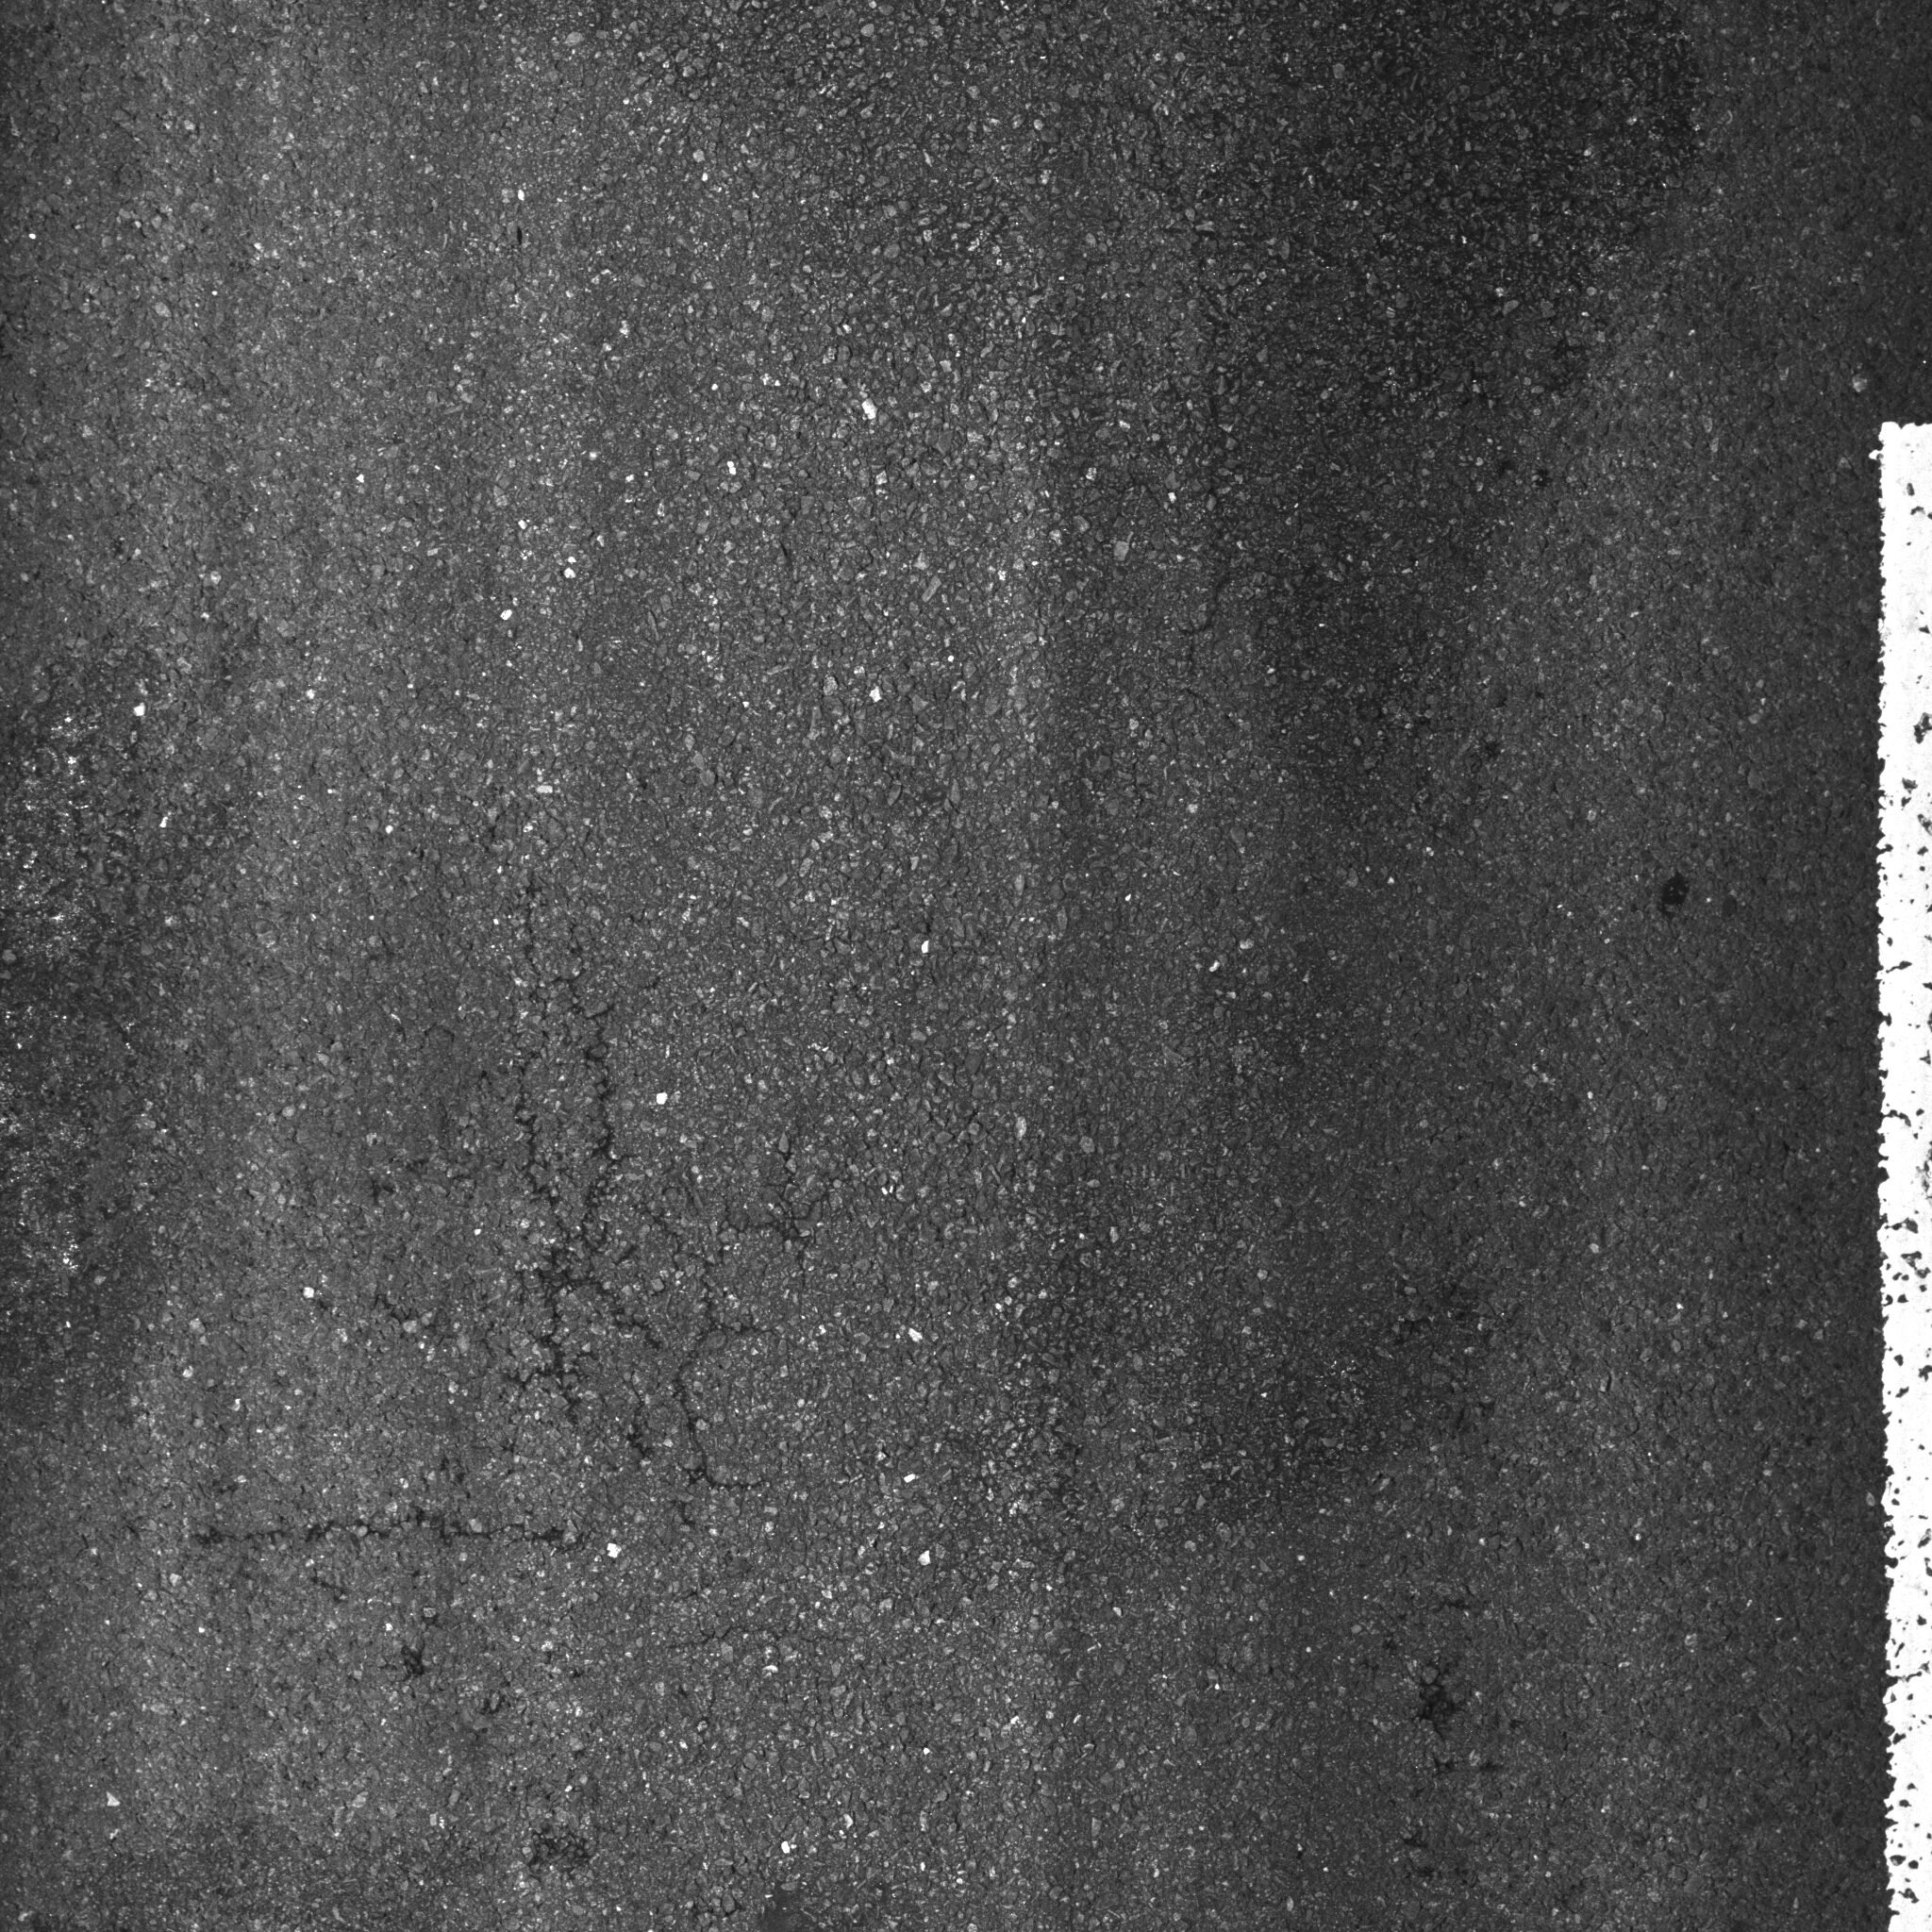alligator: (108, 812, 863, 1670)
